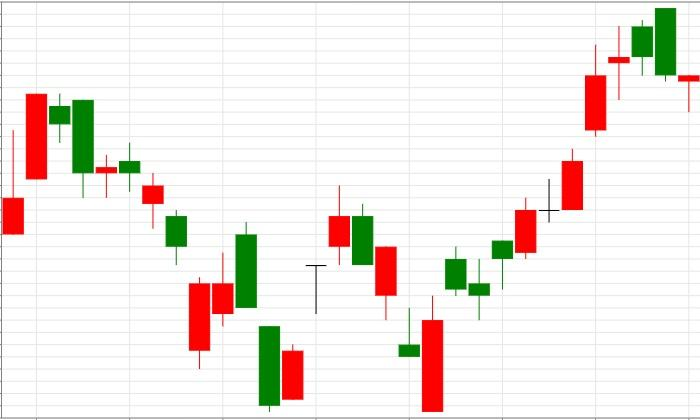bullish_engulfing_rise: (328, 184, 445, 413)
